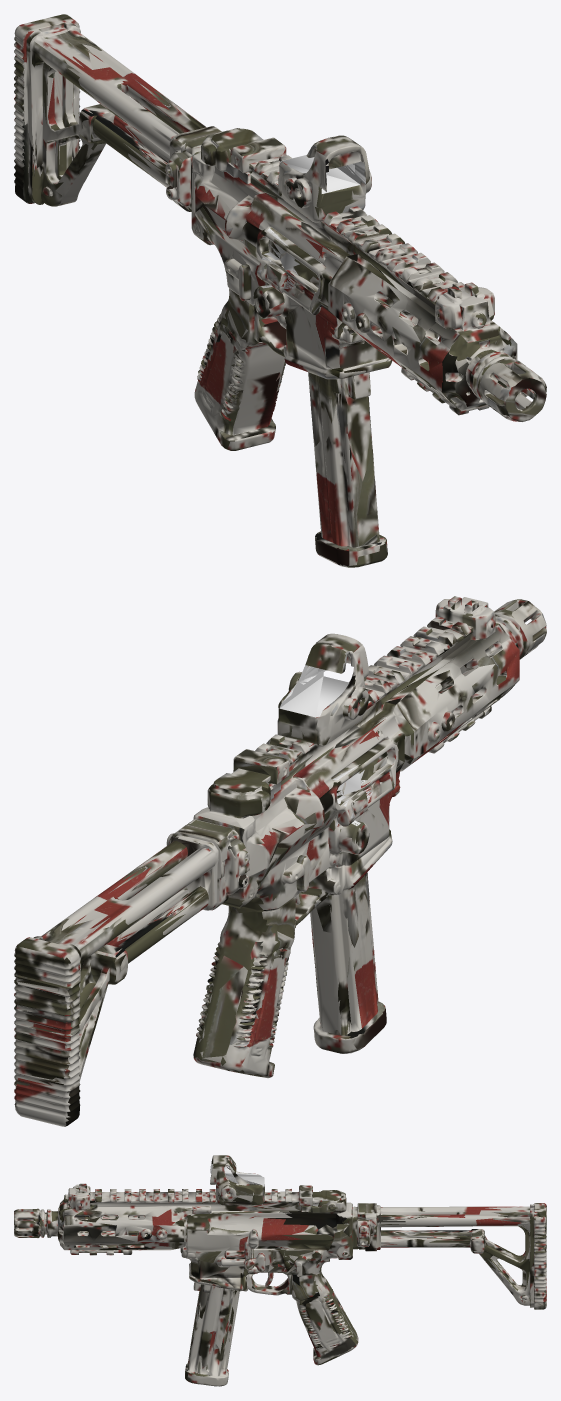
The picture shows the model from 3 angles, top to bottom: view 1: azimuth 30°, elevation 25°; view 2: azimuth 150°, elevation 25°; view 3: azimuth 270°, elevation 25°; orthographic projection. The views are drawn at different scales.
Parts seen in each view (by area): view 1: Body, Magazine, ChargingHandle; view 2: Body, Magazine, ChargingHandle; view 3: Body, Magazine, ChargingHandle.
Part boxes in pixels (x1,y1,x2,y2): Body: (14, 14, 546, 450); Magazine: (283, 339, 392, 567); ChargingHandle: (257, 231, 315, 293); Body: (14, 596, 546, 1126); Magazine: (304, 830, 392, 1053); ChargingHandle: (336, 745, 387, 825); Body: (14, 1155, 546, 1365); Magazine: (185, 1264, 254, 1386); ChargingHandle: (224, 1222, 258, 1257).
Bounding box in the file's own units: 0.1151 × 0.4279 × 0.9232.
